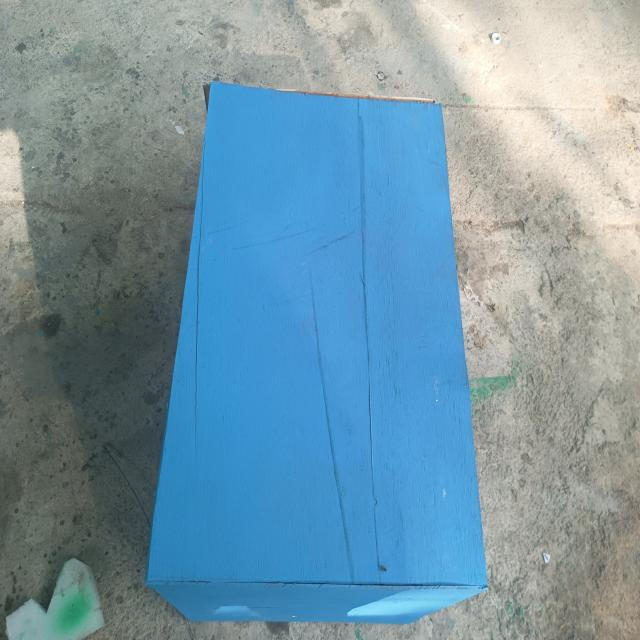blue_box: (147, 69, 508, 612)
